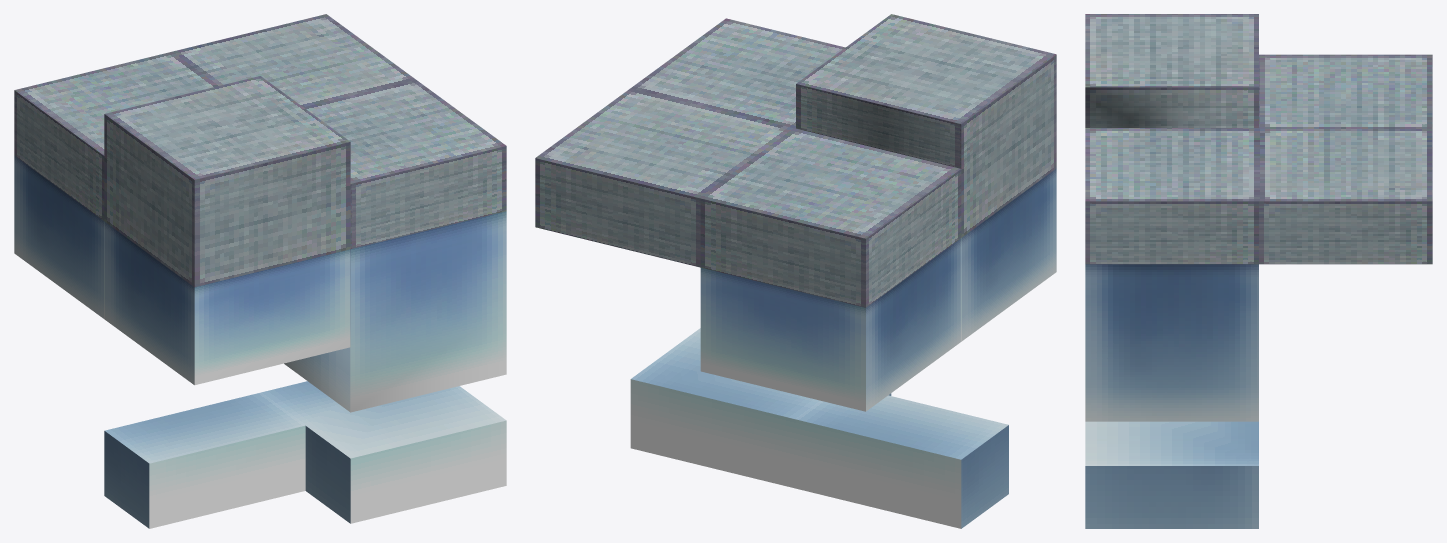
File: a_ESDwall01a.glb
3 renders of one model, left to right at view 1: azimuth 30°, elevation 25°; view 2: azimuth 150°, elevation 25°; view 3: azimuth 270°, elevation 25°, orthographic. The views are drawn at different scales.
Visible parts, largest first — view 1: a_ESDwall01a; view 2: a_ESDwall01a; view 3: a_ESDwall01a.
Part boxes in pixels (<box>): a_ESDwall01a: <box>14,14,506,528</box>; a_ESDwall01a: <box>535,14,1056,528</box>; a_ESDwall01a: <box>1085,14,1432,528</box>.
Bounding box in the file's own units: 1 × 1.17 × 1.
Materials: 2 (2 with a texture image).
